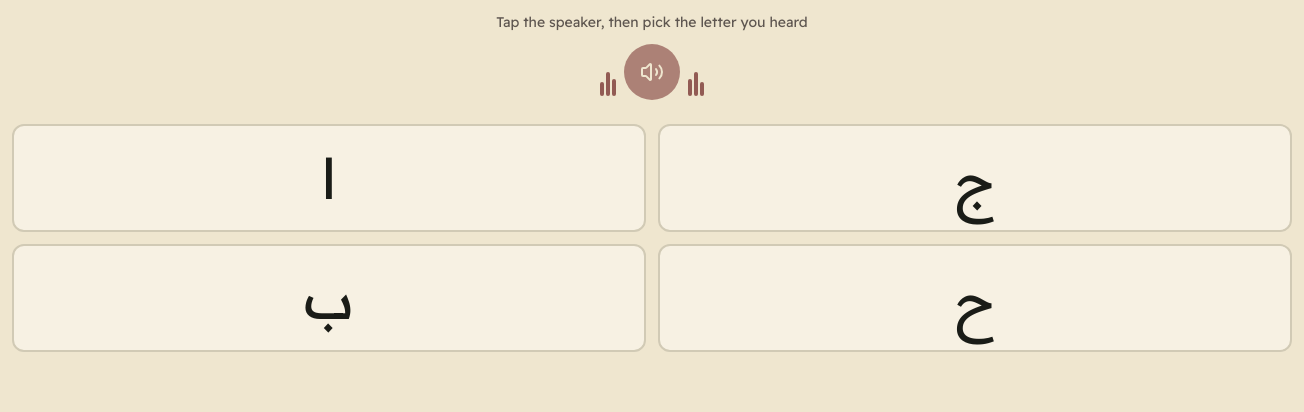
answering › says so and scores full marks for the right letter
This screenshot has width=1304, height=412.
Click the button "ب" at (329, 298), box [12, 244, 646, 352]
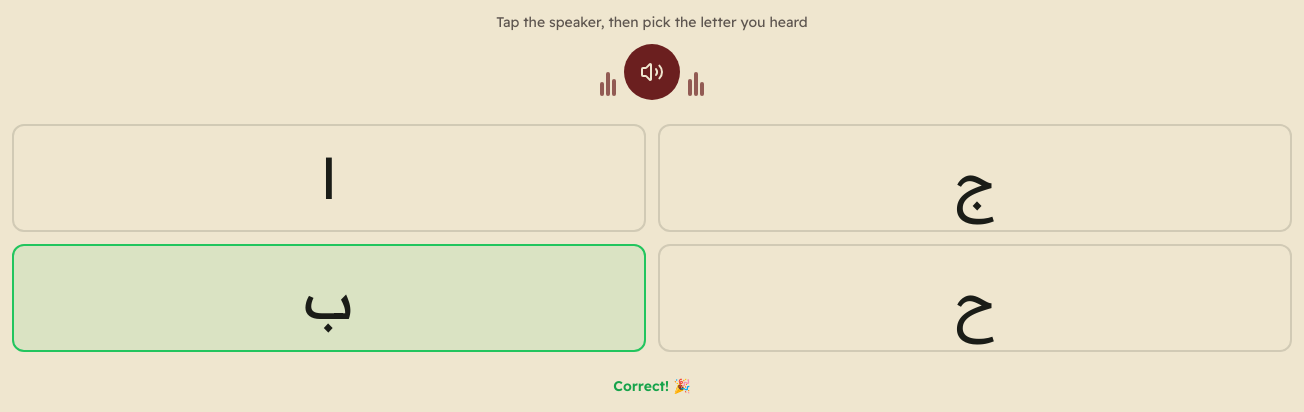
Expected: the text "Correct! 🎉" is shown, [613, 377, 691, 395]
